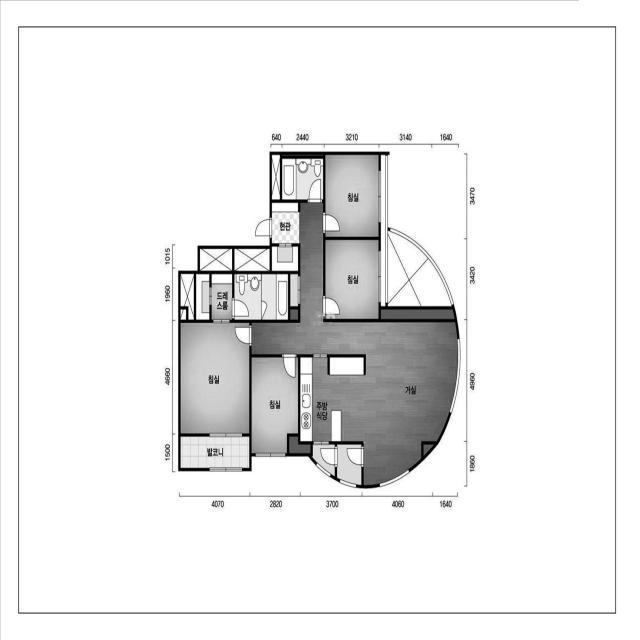space_balconi: (180, 436, 250, 468)
space_bedroom: (180, 323, 250, 434), (251, 357, 298, 453), (325, 155, 379, 237), (325, 240, 379, 319)
space_dressroom: (196, 274, 232, 320)
space_front: (272, 203, 300, 271)
space_kitchen: (300, 357, 364, 442)
space_living_room: (251, 203, 458, 485)
space_other: (337, 444, 362, 485), (234, 249, 270, 271), (312, 444, 335, 477), (381, 309, 455, 319), (200, 249, 232, 271), (180, 274, 194, 320), (289, 436, 311, 454), (272, 155, 280, 200), (423, 444, 434, 457), (290, 309, 298, 320), (180, 309, 186, 320), (282, 155, 323, 156)
space_toilet: (234, 274, 288, 320), (282, 158, 323, 200)
